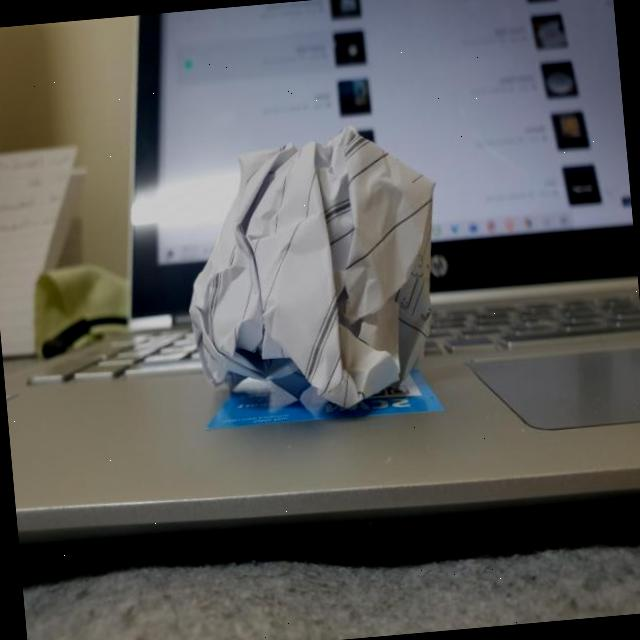trash: (160, 94, 482, 450)
